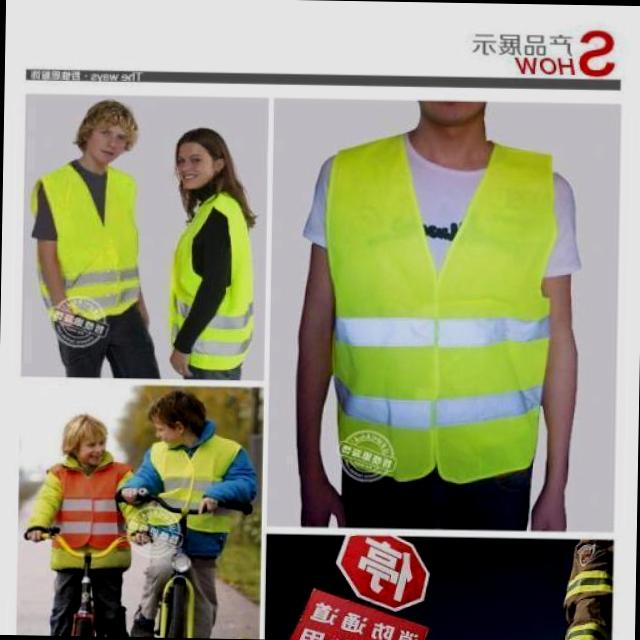no-helmet: (160, 114, 254, 220), (51, 90, 152, 186), (138, 387, 222, 454), (47, 410, 113, 485)
vest: (318, 133, 560, 480), (41, 160, 143, 316), (168, 196, 254, 372), (130, 432, 245, 538), (47, 460, 138, 563)
